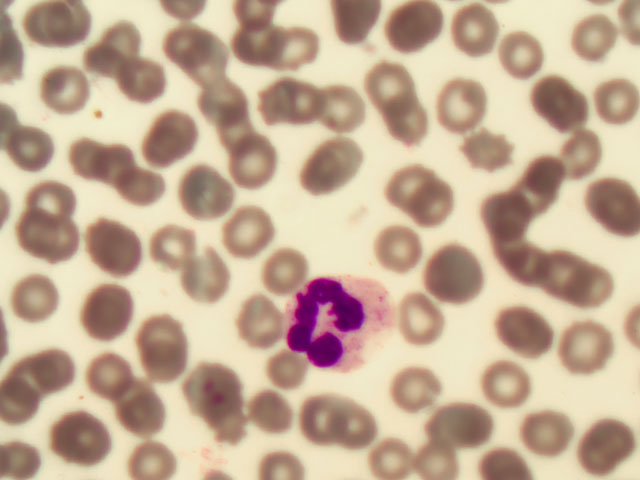RBC: (76, 28, 131, 83), (99, 13, 154, 68), (111, 51, 166, 106), (45, 64, 100, 119), (54, 129, 109, 184), (89, 134, 144, 189), (120, 162, 175, 217), (148, 107, 203, 162), (177, 166, 232, 221), (220, 204, 275, 259), (183, 249, 238, 304), (149, 223, 204, 278), (97, 216, 152, 271), (21, 212, 76, 267), (16, 170, 71, 225), (5, 129, 60, 184), (8, 272, 63, 327), (77, 285, 132, 340), (135, 308, 190, 363), (139, 329, 194, 384), (94, 344, 149, 399), (112, 381, 167, 436), (53, 414, 108, 469), (22, 346, 77, 401), (2, 373, 57, 428), (110, 424, 165, 479), (180, 356, 235, 411), (248, 388, 303, 443), (249, 345, 304, 400), (223, 290, 278, 345), (254, 244, 309, 299), (239, 143, 294, 198), (213, 105, 268, 160), (197, 77, 252, 132), (174, 27, 229, 82), (230, 15, 285, 70), (272, 18, 327, 73), (244, 69, 299, 124), (284, 78, 339, 133), (309, 77, 364, 132), (289, 152, 344, 207), (310, 118, 365, 173), (379, 100, 434, 155), (363, 56, 418, 111), (382, 3, 437, 58), (495, 28, 550, 83), (442, 74, 497, 129), (462, 122, 517, 177), (529, 82, 584, 137), (584, 71, 639, 126), (568, 14, 623, 69), (559, 129, 614, 184), (579, 175, 634, 230), (516, 156, 571, 211), (478, 181, 533, 236), (479, 221, 534, 276), (506, 239, 561, 294), (557, 257, 612, 312), (426, 245, 481, 300), (376, 225, 431, 280), (416, 178, 471, 233), (384, 156, 439, 211), (395, 295, 450, 350), (385, 363, 440, 418), (488, 358, 543, 413), (497, 304, 552, 359), (563, 322, 618, 377), (577, 415, 632, 470), (513, 398, 568, 453), (425, 393, 480, 448), (431, 383, 486, 438), (19, 1, 74, 55), (49, 1, 104, 55), (446, 1, 501, 55)
WBC: (283, 269, 389, 368)
